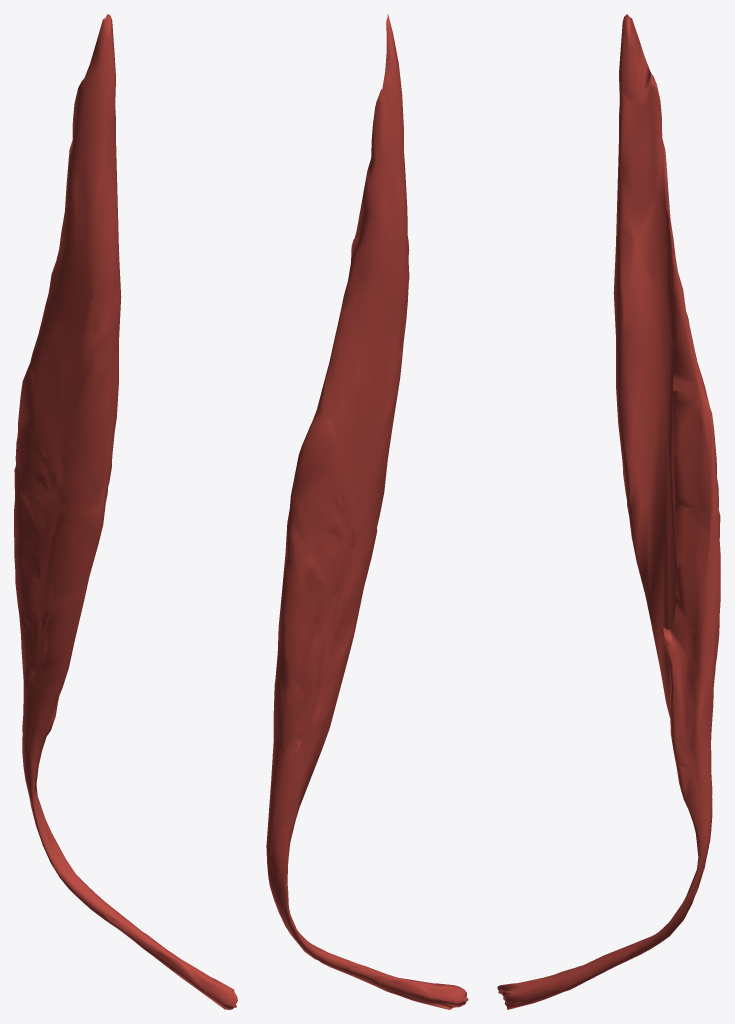
The model's file is musculos-fibularis-brevis-muscle-r.glb.
3 renders of one model, left to right at view 1: azimuth 90°, elevation 25°; view 2: azimuth 150°, elevation 25°; view 3: azimuth 270°, elevation 25°, orthographic. The views are drawn at different scales.
Visible parts, largest first — view 1: Fibularis brevis muscle.r; view 2: Fibularis brevis muscle.r; view 3: Fibularis brevis muscle.r.
Part boxes in pixels (box(x1,y1,x2,y2)): Fibularis brevis muscle.r: box(14, 14, 237, 1009); Fibularis brevis muscle.r: box(266, 14, 468, 1009); Fibularis brevis muscle.r: box(497, 14, 720, 1009).
Size of the model in its own units: 0.0283 by 0.2689 by 0.0548.
